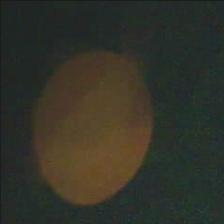fertile: (30, 43, 156, 206)
